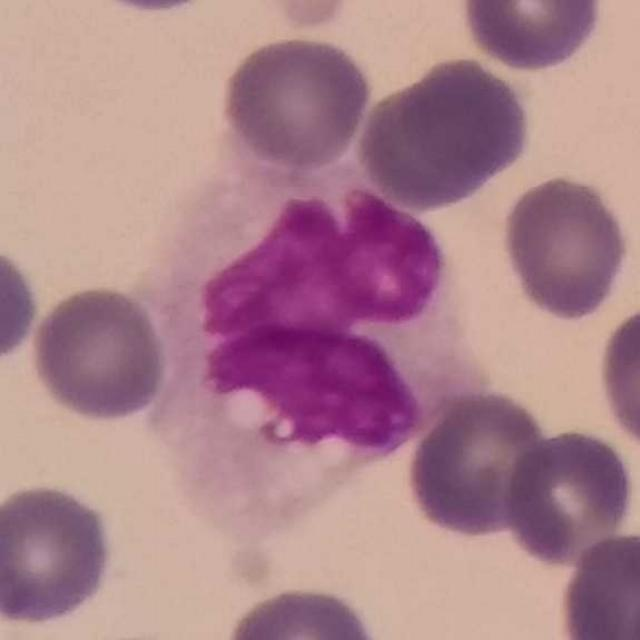Monocyte: (140, 159, 480, 579)
RBC: (353, 52, 536, 212), (403, 386, 556, 542), (215, 31, 376, 173), (26, 281, 172, 425), (498, 170, 634, 324), (498, 424, 638, 571), (0, 477, 119, 630), (457, 0, 606, 73), (218, 581, 386, 640), (554, 528, 639, 640), (594, 298, 640, 458), (0, 240, 43, 372), (228, 0, 368, 37)
